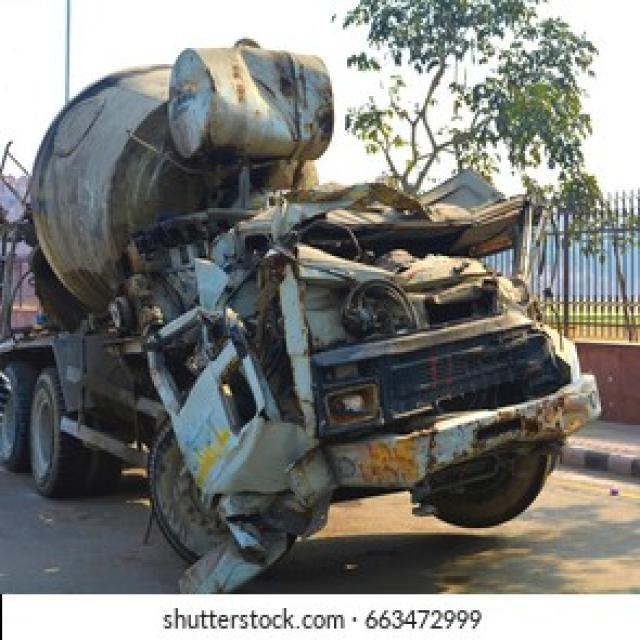accident: (0, 42, 600, 592)
